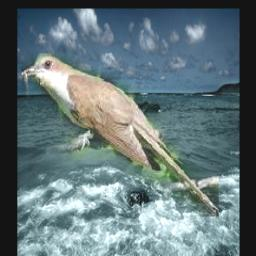Cuckoo: (23, 54, 220, 218)
